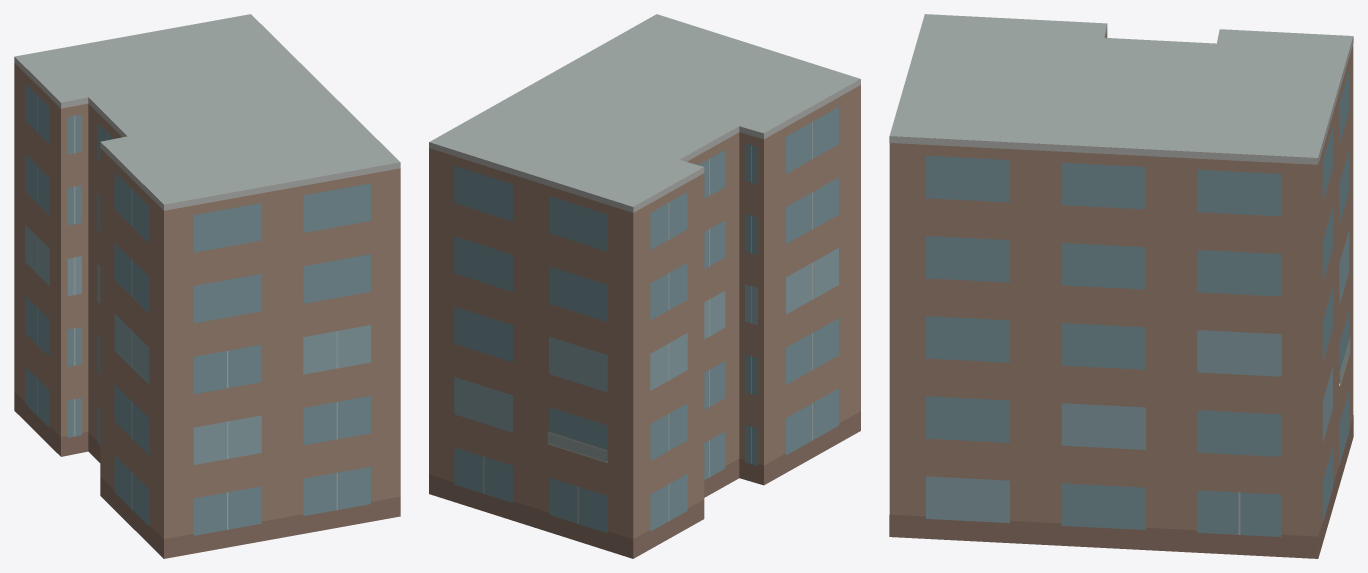
The model's file is survey-upis-32712330.glb.
The picture shows the model from 3 angles, left to right: view 1: azimuth 30°, elevation 25°; view 2: azimuth 150°, elevation 25°; view 3: azimuth 270°, elevation 25°; orthographic projection. The views are drawn at different scales.
Parts seen in each view (by area): view 1: survey-upis-32712330.tmp; view 2: survey-upis-32712330.tmp; view 3: survey-upis-32712330.tmp.
Part boxes in pixels (x1,y1,x2,y2): survey-upis-32712330.tmp: (14,14,400,558); survey-upis-32712330.tmp: (429,14,860,558); survey-upis-32712330.tmp: (889,14,1353,558).
Bounding box in the file's own units: 11.11 × 14.4 × 15.12.
